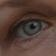eye: (24, 21, 41, 35)
